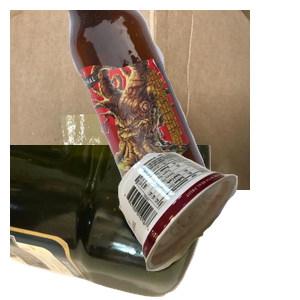cardboard: (10, 10, 250, 190)
glass: (65, 10, 300, 190)
plastic: (10, 145, 213, 300)
trash: (116, 149, 300, 300)
